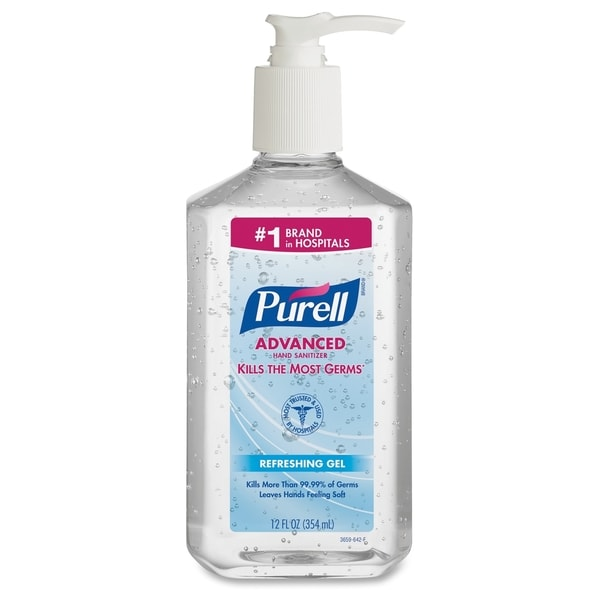Sanitizer: (178, 4, 437, 588)
